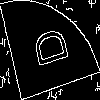D: (25, 25, 69, 72)
